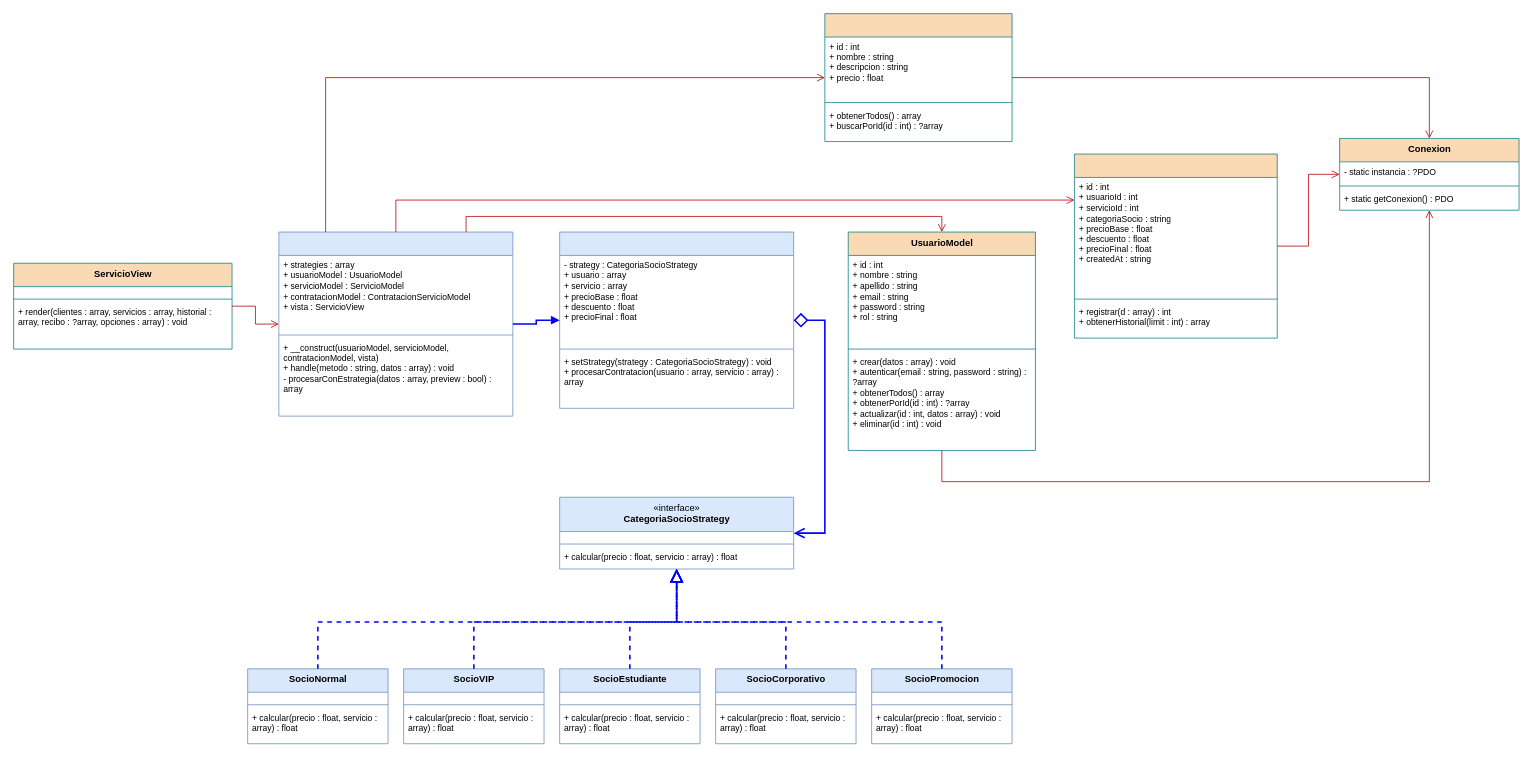
Some shapes in this 1533 by 760 pixel diagram are drawn without their labels. Here are the shapes that lost their labels. From the top down, the box of each, then its label:
(824, 13, 1012, 142): ServicioModel
(1074, 153, 1277, 338): ContratacionServicioModel
(278, 231, 513, 416): ServicioController
(559, 231, 794, 408): ContratacionServicioContext
